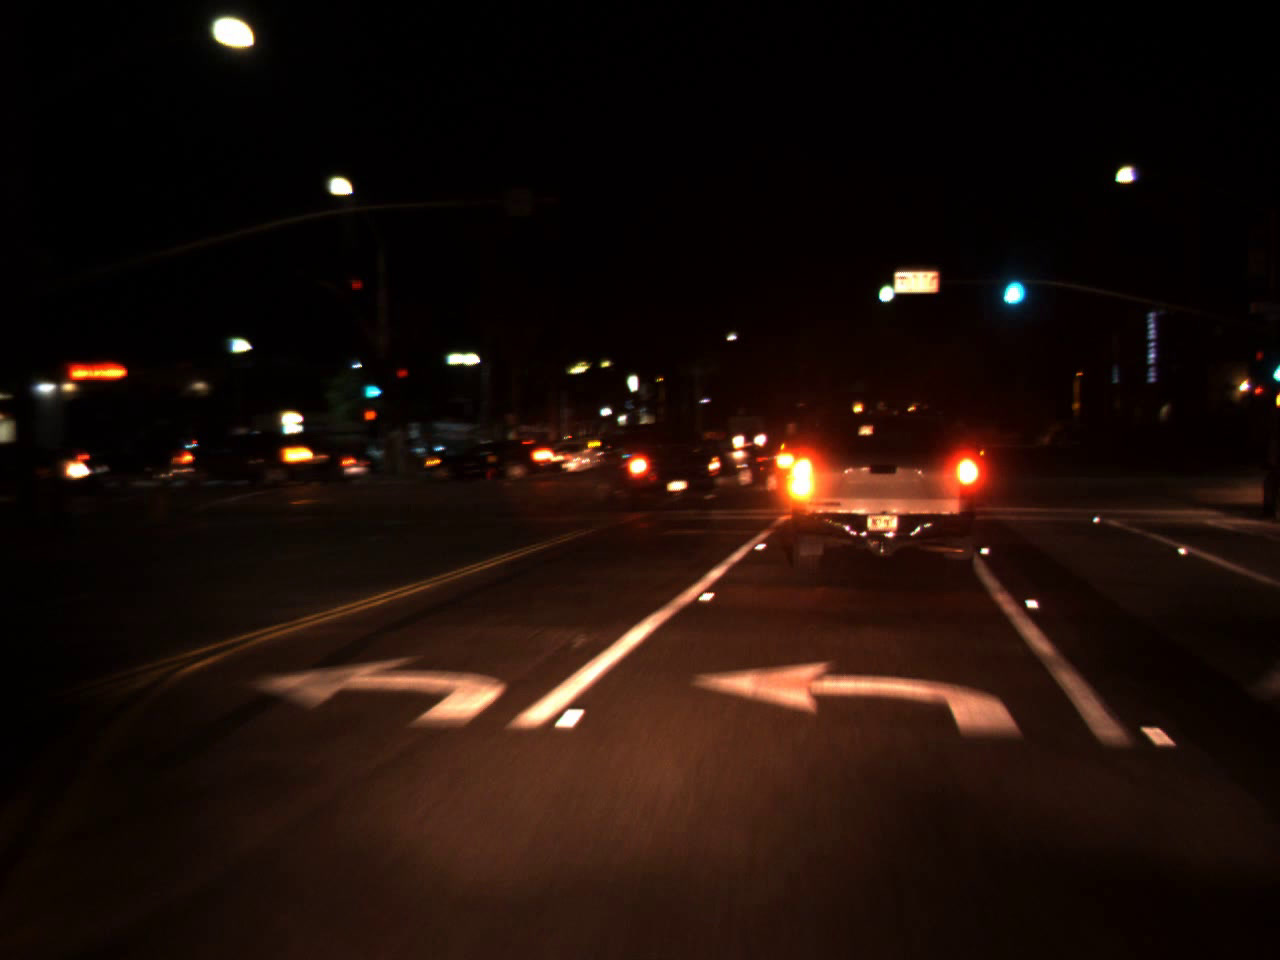go: (995, 253, 1029, 313), (873, 266, 896, 308), (360, 373, 383, 400)
